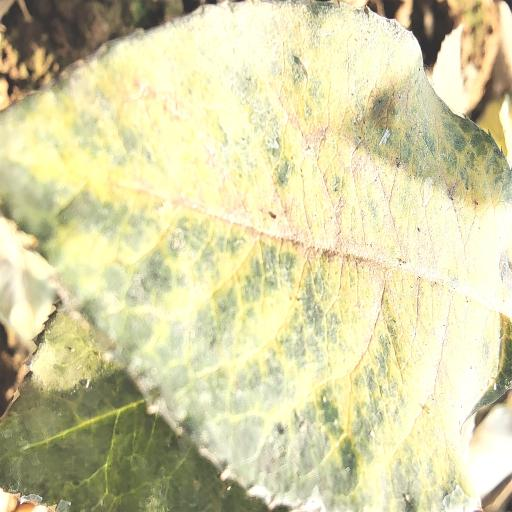red_mite: (0, 1, 512, 512)
